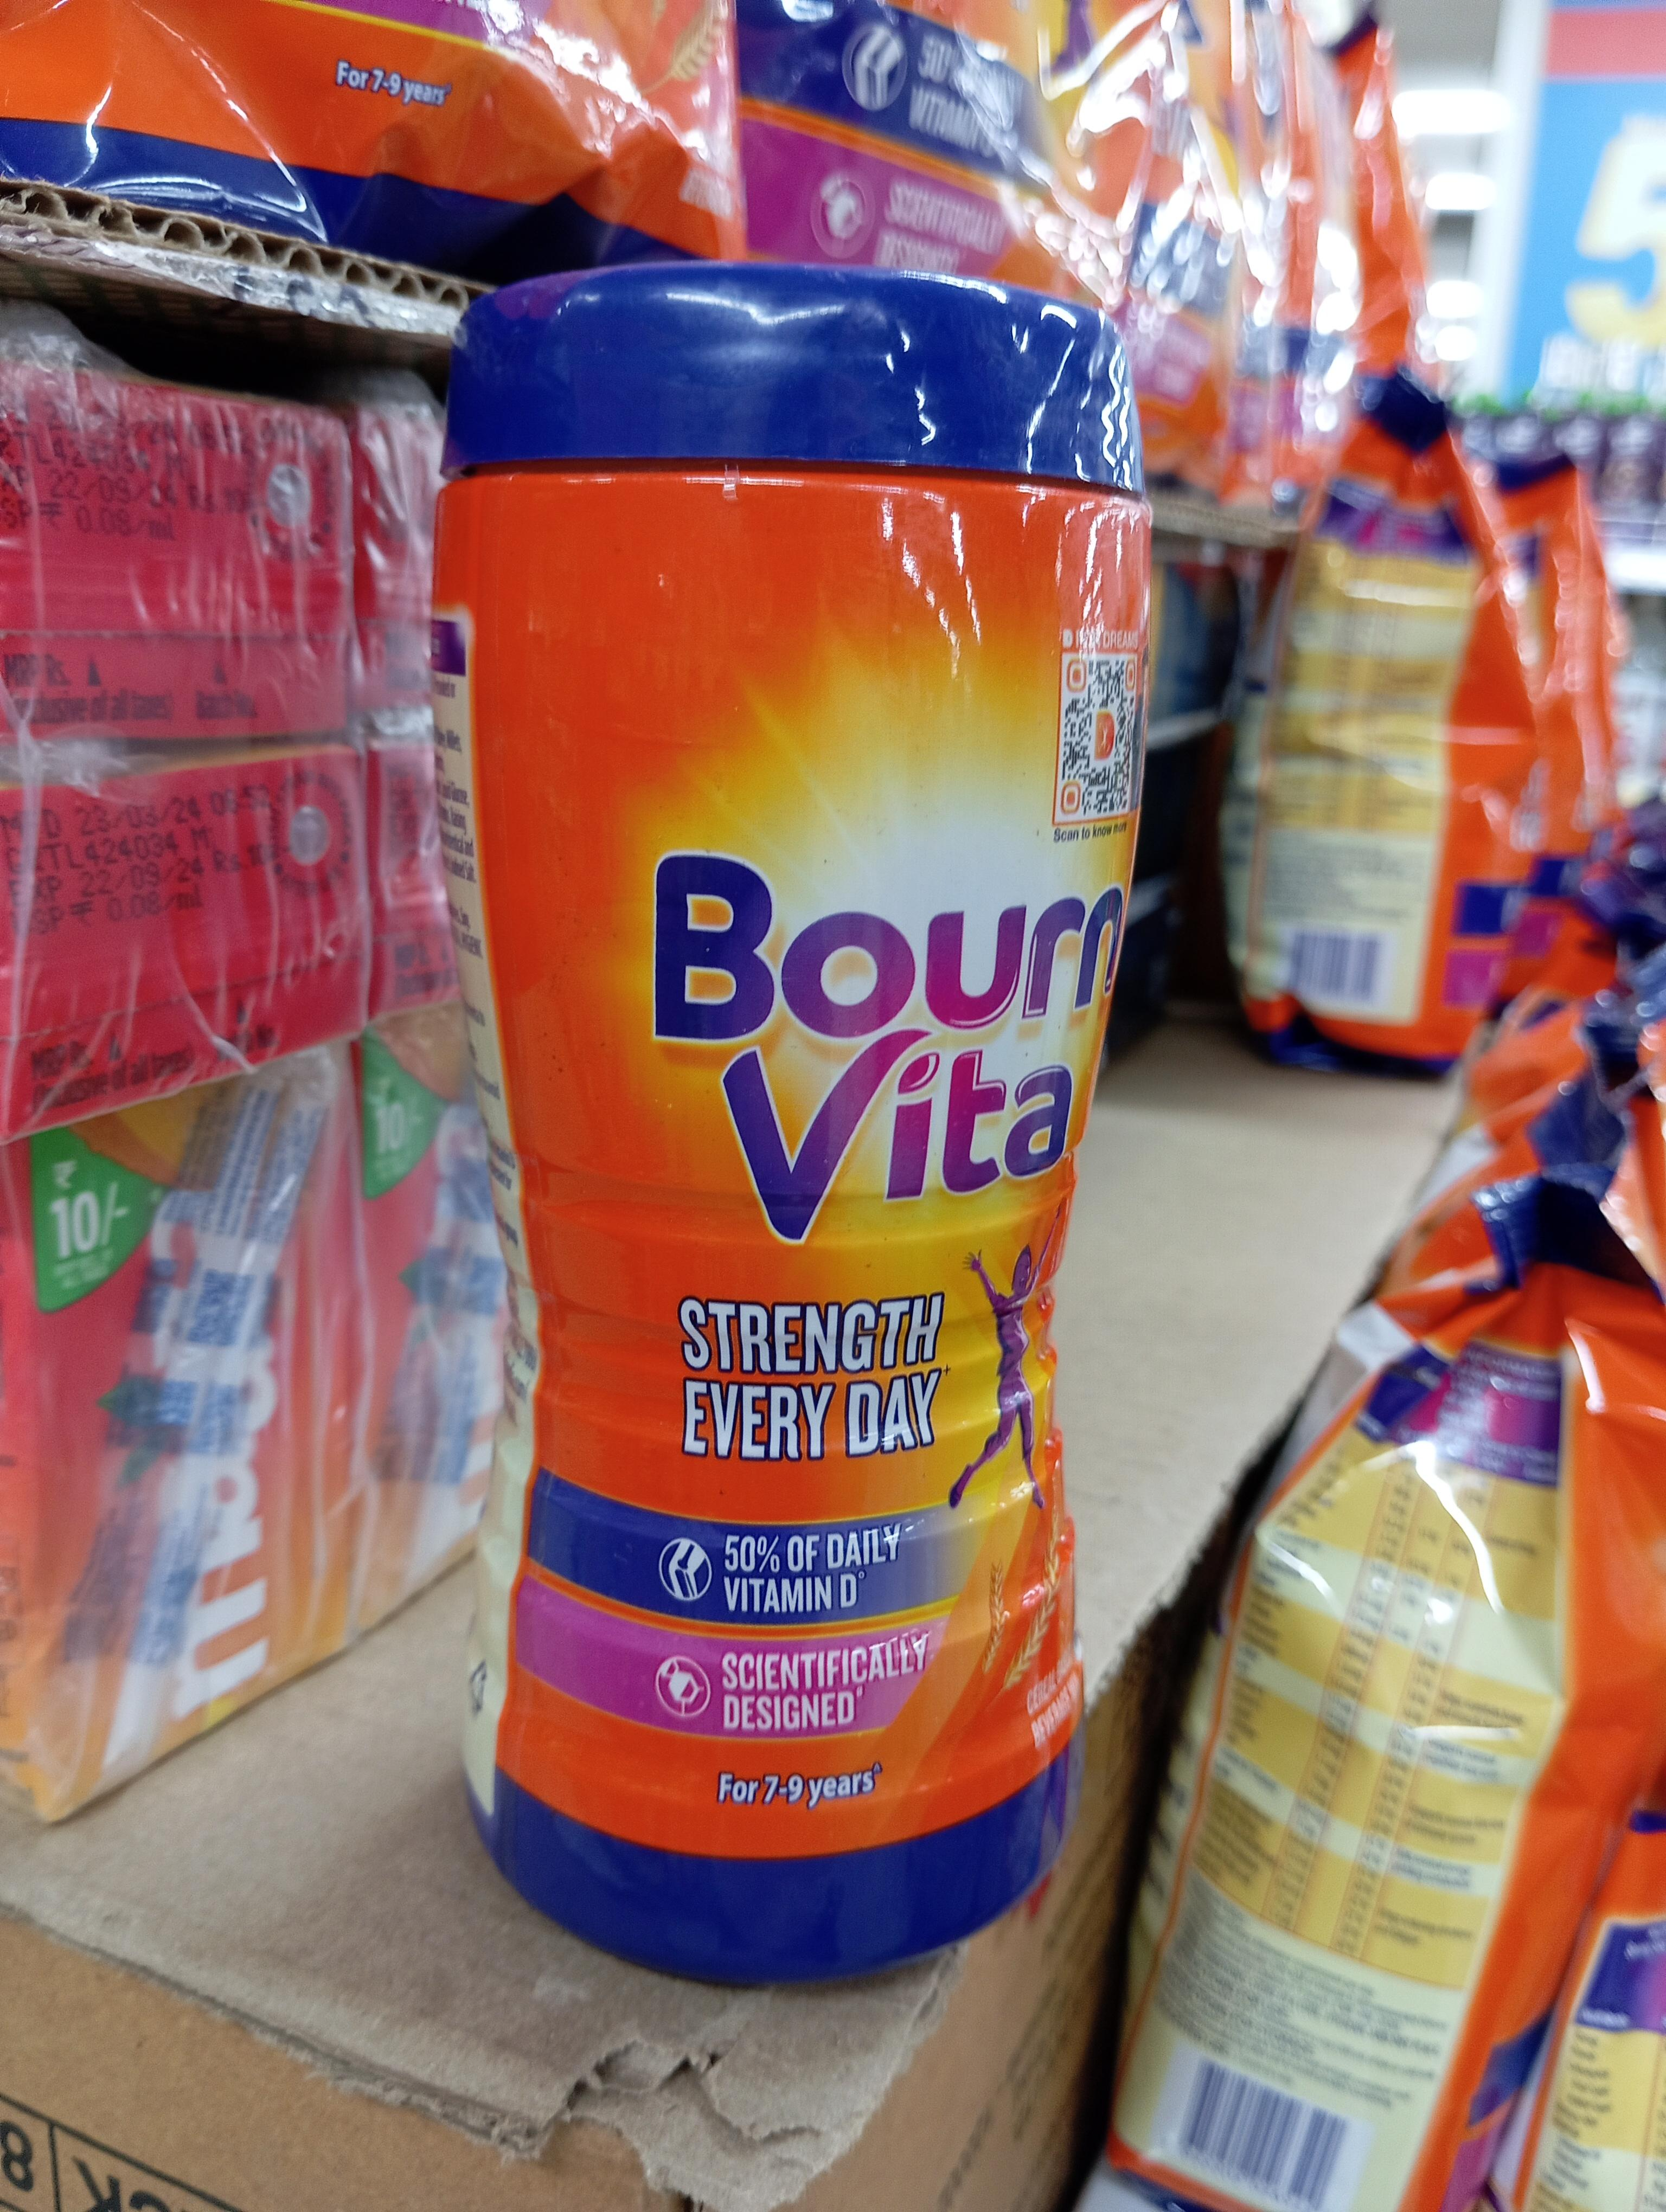BOURN_VITA_200_G_JAR: (455, 245, 1066, 1925)
